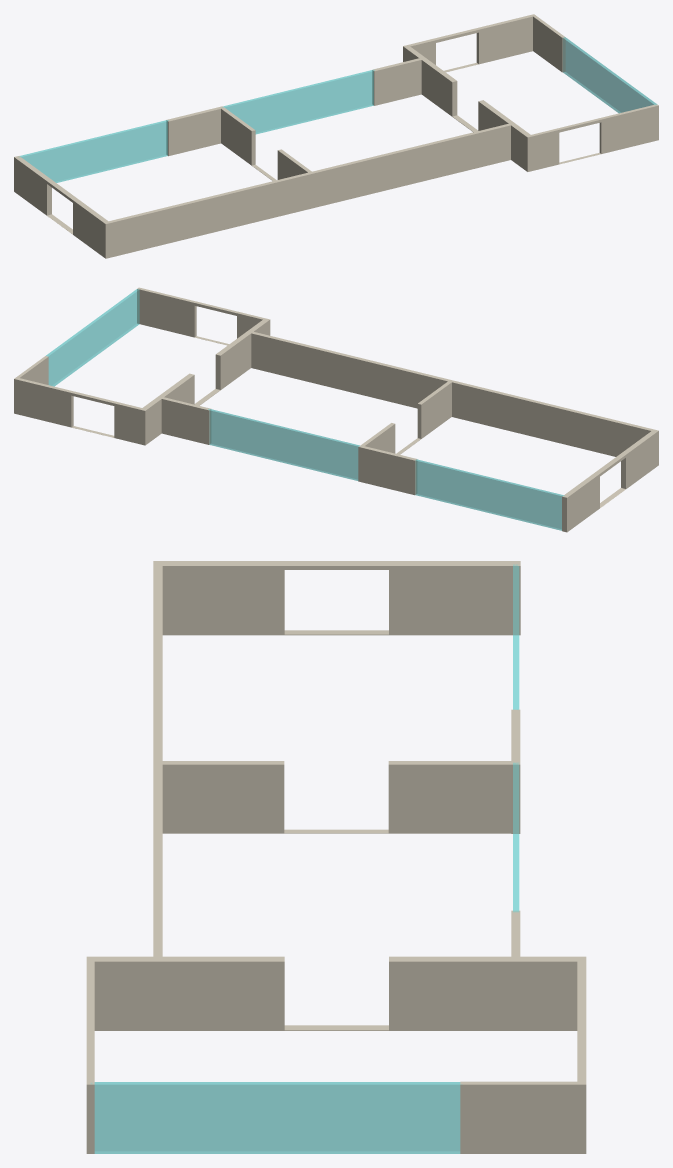
File: ALLTerminal_Structure.fbx
The picture shows the model from 3 angles, top to bottom: view 1: azimuth 30°, elevation 25°; view 2: azimuth 150°, elevation 25°; view 3: azimuth 270°, elevation 25°; orthographic projection. The views are drawn at different scales.
Visible parts, largest first — view 1: pCube45, pCube49; view 2: pCube45, pCube49; view 3: pCube45, pCube49.
Part boxes in pixels (bbox=[...]): pCube45: bbox=[14, 14, 658, 258]; pCube49: bbox=[19, 37, 657, 182]; pCube45: bbox=[14, 287, 658, 532]; pCube49: bbox=[46, 289, 564, 530]; pCube45: bbox=[86, 561, 586, 1153]; pCube49: bbox=[90, 564, 519, 1153].
Bounding box in the file's own units: 162 × 10 × 65.36.
